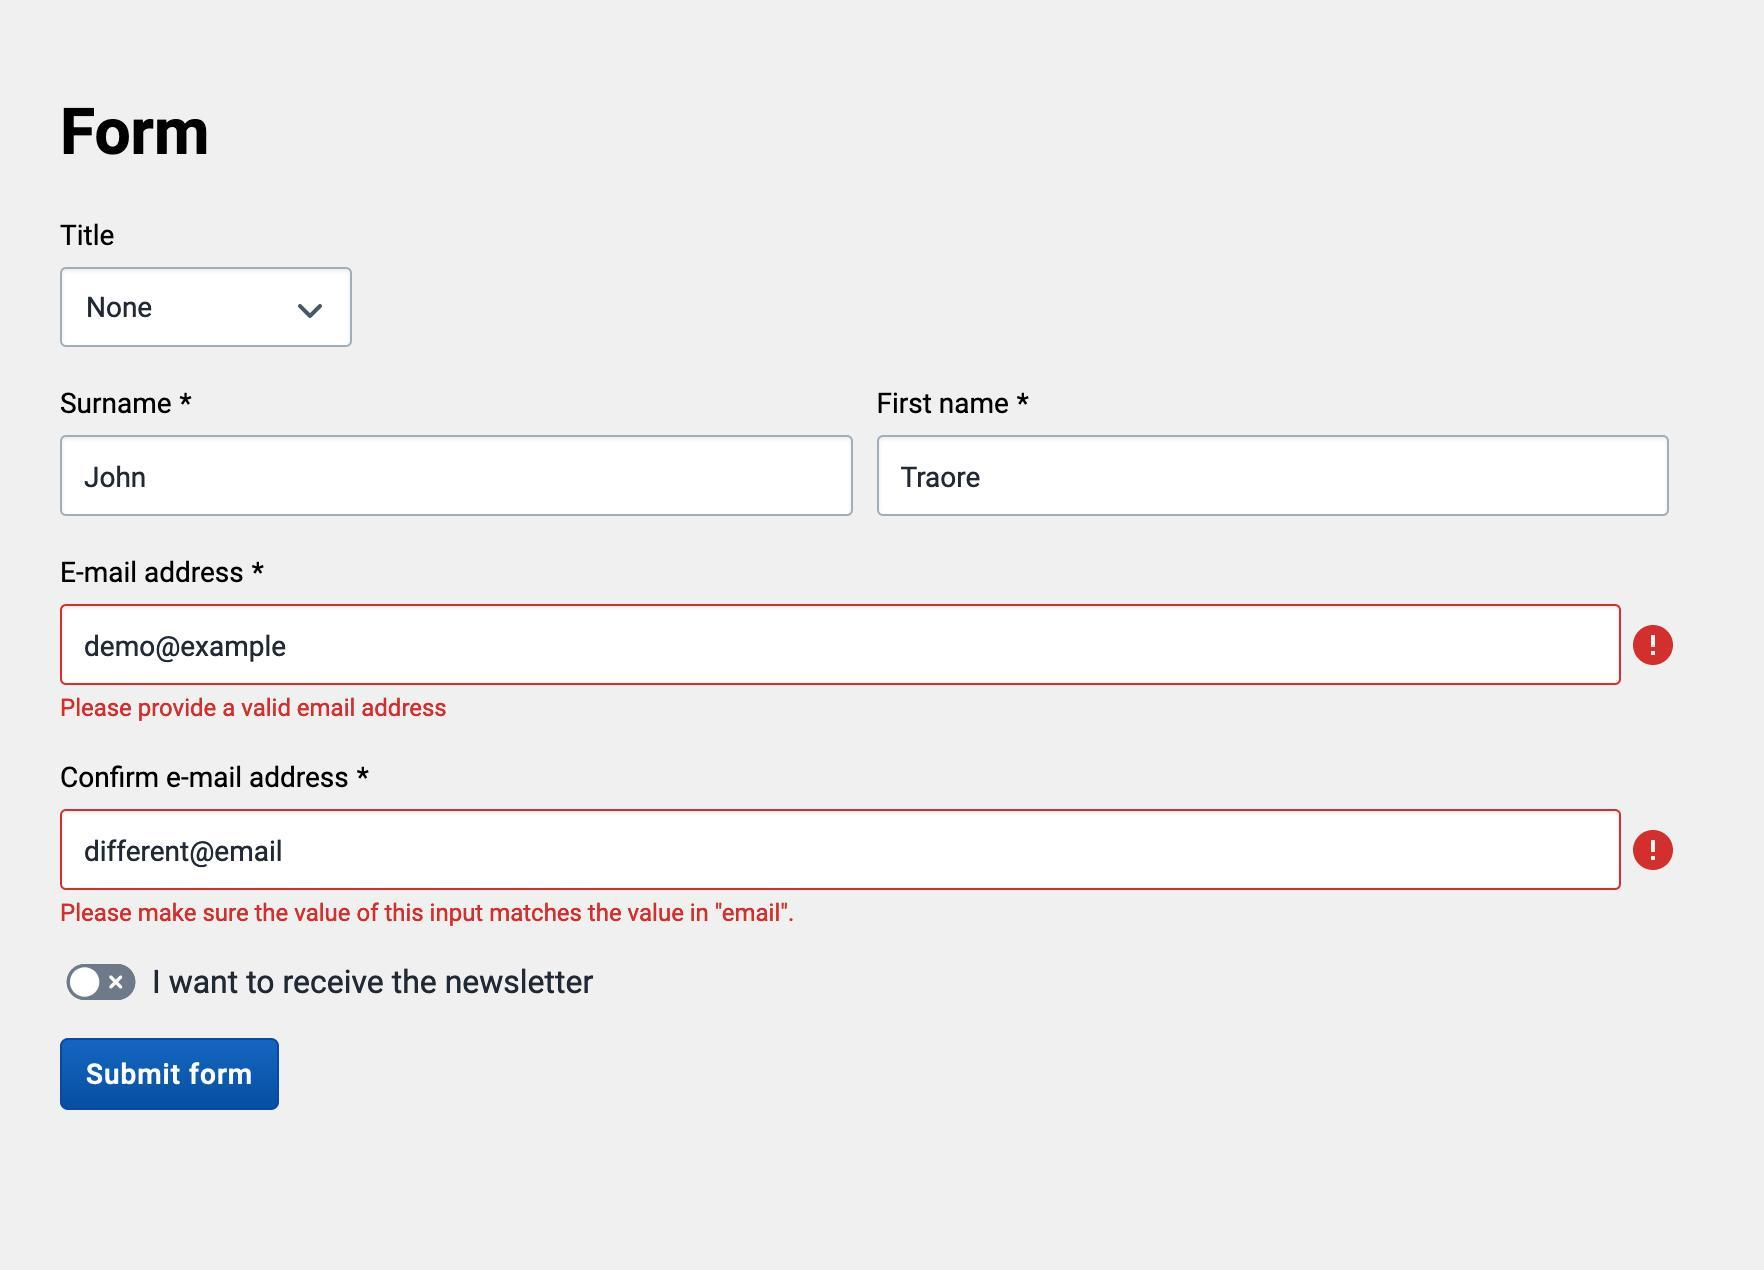button: (62, 1038, 286, 1112)
dropdown: (64, 264, 353, 347)
input: (56, 804, 1623, 896), (59, 603, 1624, 688), (877, 432, 1680, 519), (66, 436, 855, 516)
label: (151, 959, 608, 1019), (48, 90, 227, 171), (58, 759, 373, 803), (53, 547, 273, 589), (863, 389, 1046, 419), (58, 389, 201, 423), (48, 221, 134, 251)
switch: (64, 949, 153, 1012)
